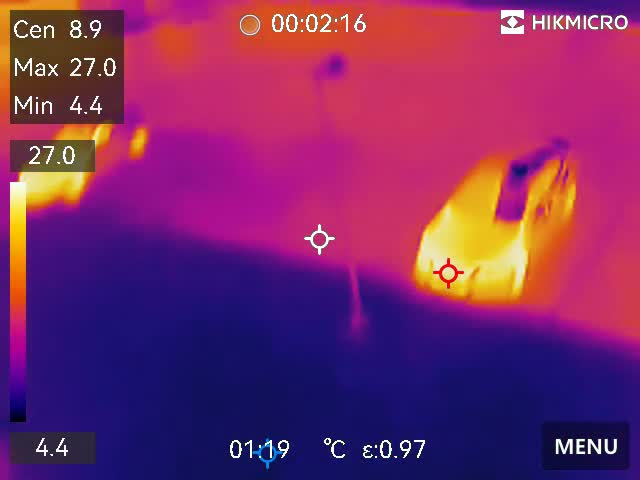smallCar: (416, 110, 585, 308), (12, 110, 159, 205)
